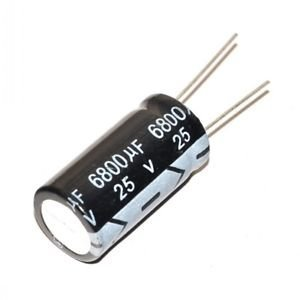capacitor: (22, 66, 231, 275)
